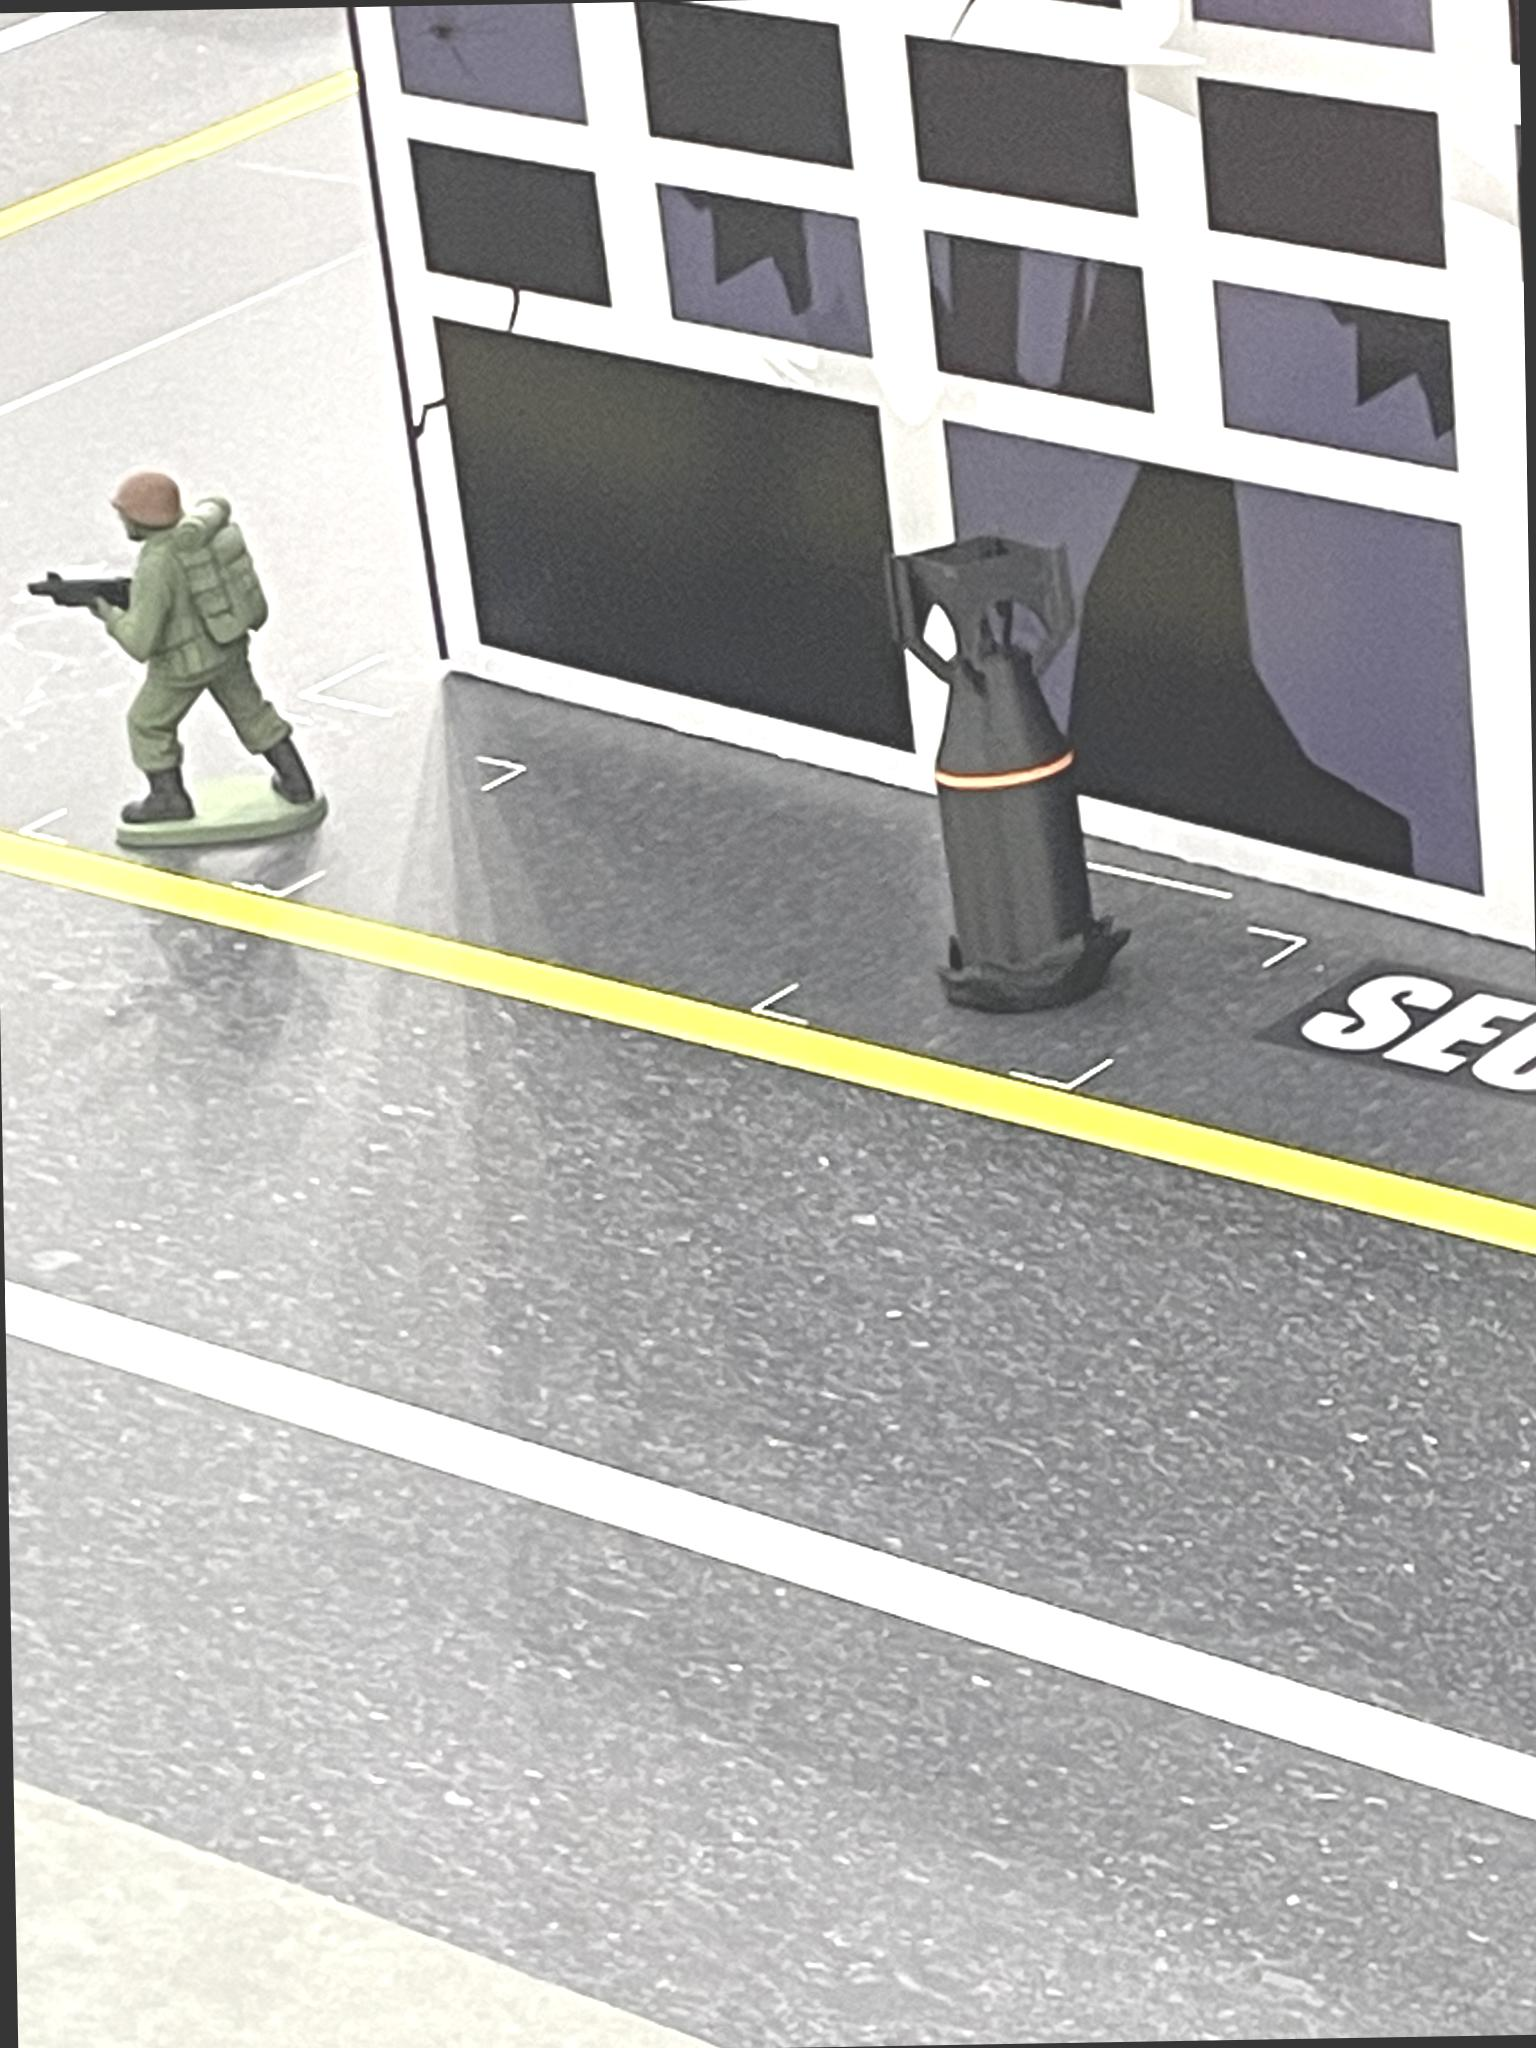Enemy: (26, 468, 324, 869)
Missile: (876, 527, 1136, 1039)
